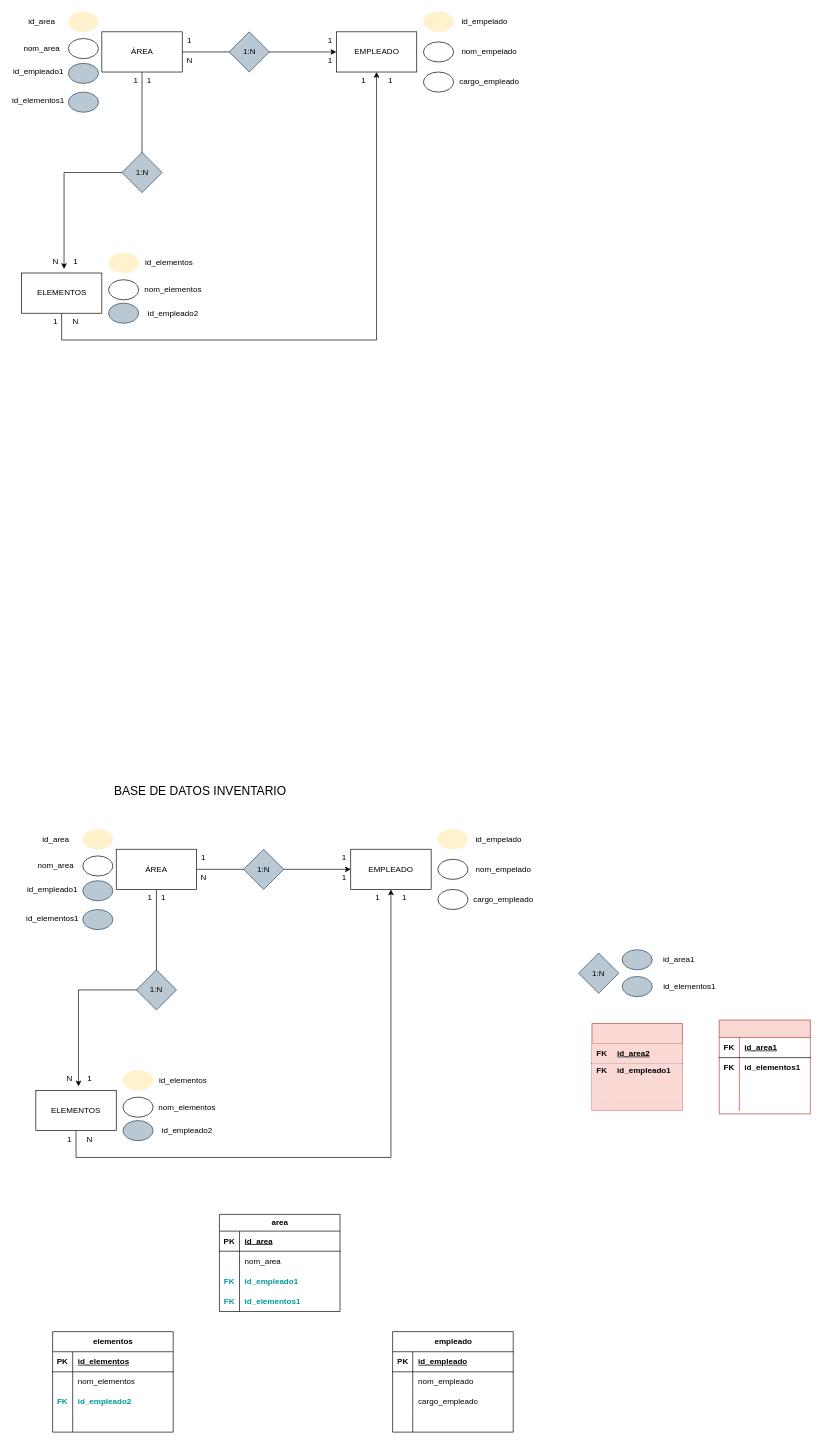
Image size: 822x1444. Some labels were removed from this diagram. Here are the shapes that lost their labels. From the top down, the box of each, then its label:
(591, 1023, 682, 1111): are_empl
(719, 1019, 810, 1114): are_elem
